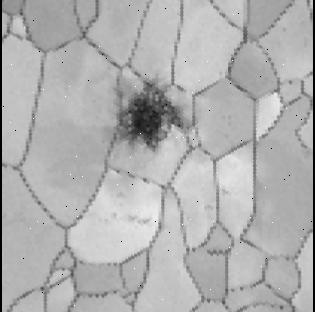good_void: (102, 70, 194, 158), (99, 176, 153, 230), (220, 185, 229, 196), (201, 202, 213, 210)
